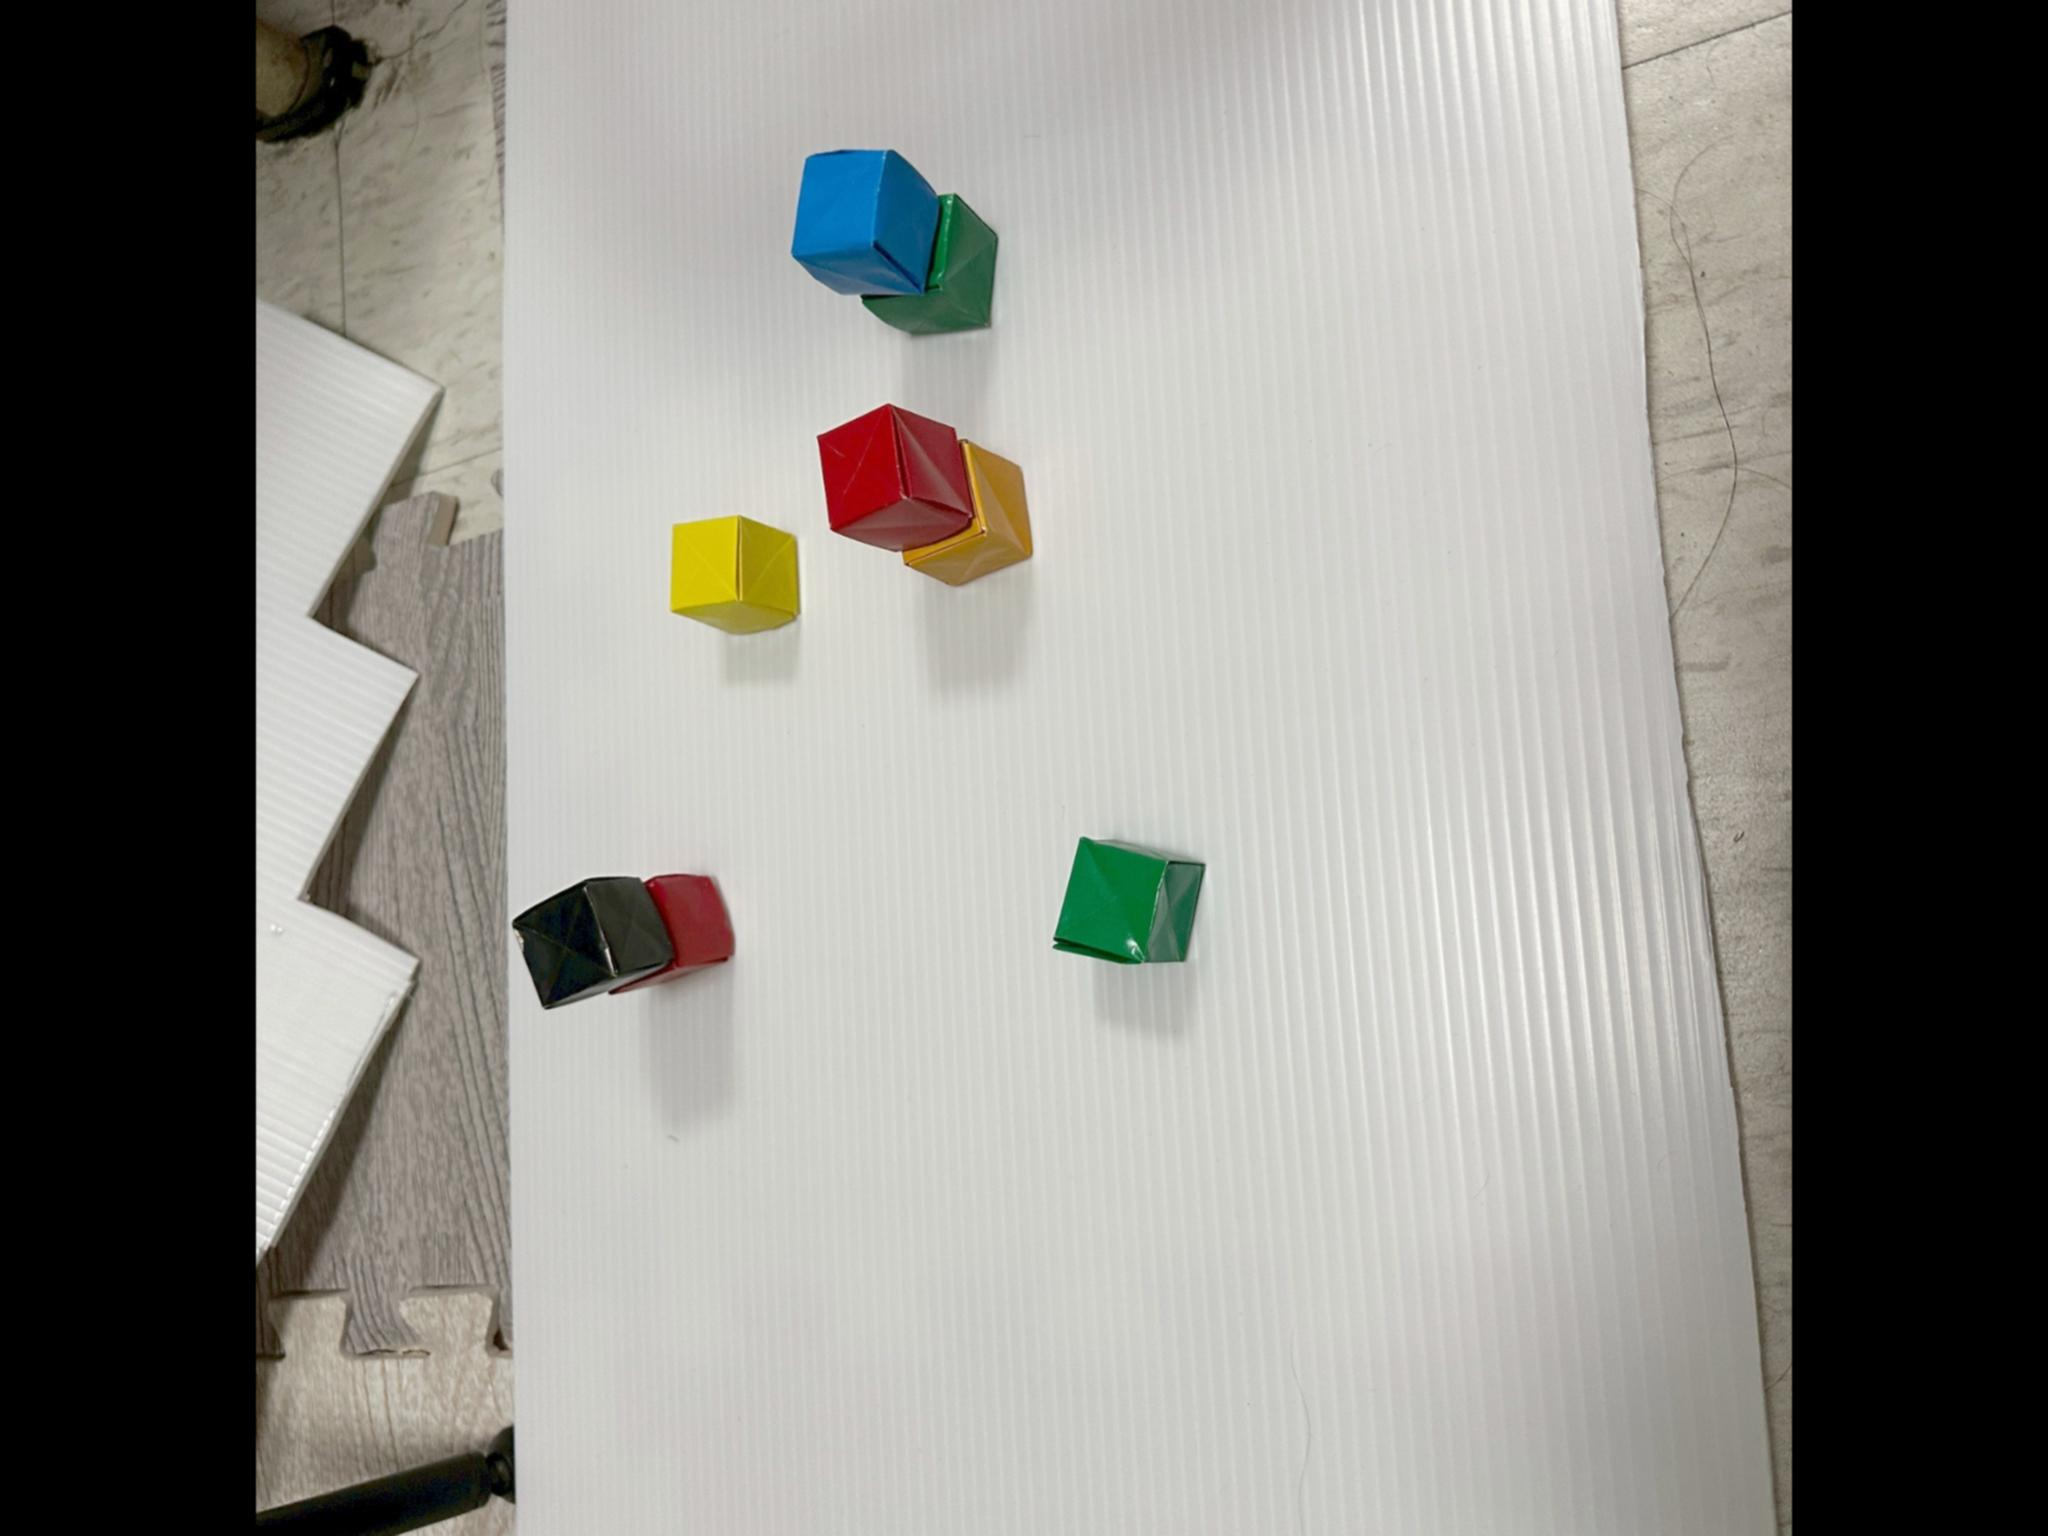cube: (818, 403, 974, 550), (792, 148, 940, 292), (513, 876, 672, 1007), (863, 192, 997, 334), (903, 440, 1032, 584), (672, 515, 798, 632), (637, 871, 734, 986)
